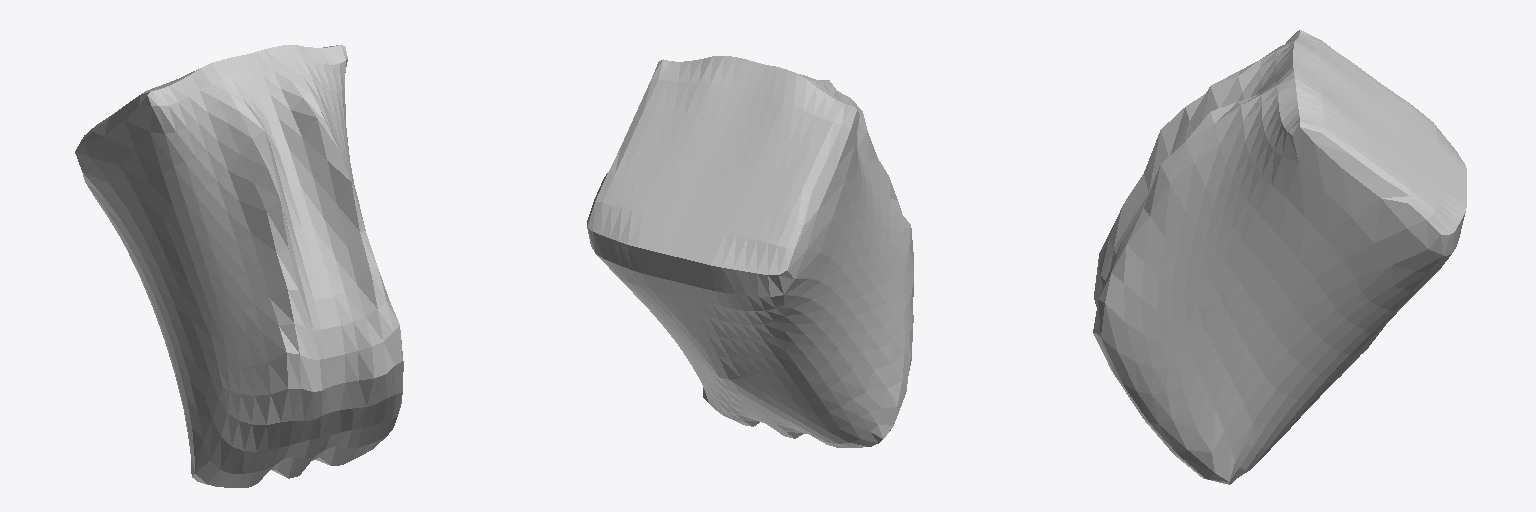
Rendered from vertabrae22.obj.
3 renders of one model, left to right at view 1: azimuth 30°, elevation 25°; view 2: azimuth 150°, elevation 25°; view 3: azimuth 270°, elevation 25°, orthographic.
Visible parts, largest first — view 1: Cube.124_Cube.125; view 2: Cube.124_Cube.125; view 3: Cube.124_Cube.125.
Part boxes in pixels (x1,y1,x2,y2): Cube.124_Cube.125: (75,45,403,487); Cube.124_Cube.125: (587,56,913,447); Cube.124_Cube.125: (1093,30,1466,484).
Bounding box in the file's own units: 0.0602 × 0.1116 × 0.0956.